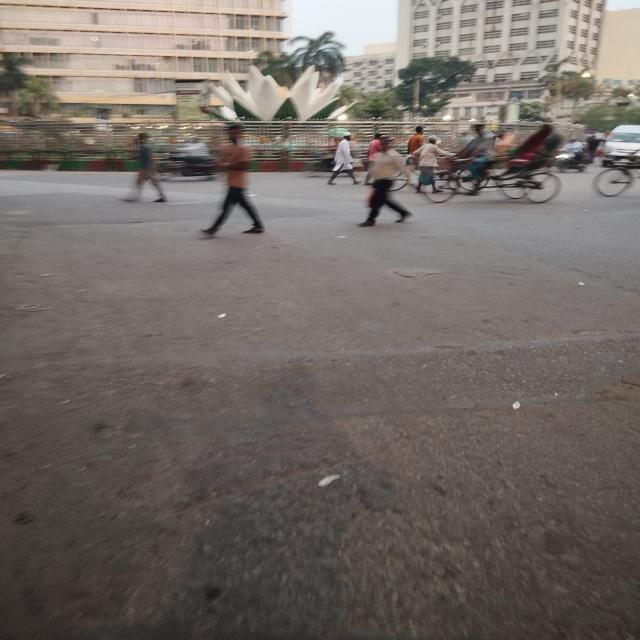person: (202, 124, 265, 237), (358, 136, 412, 228), (123, 133, 167, 203)
